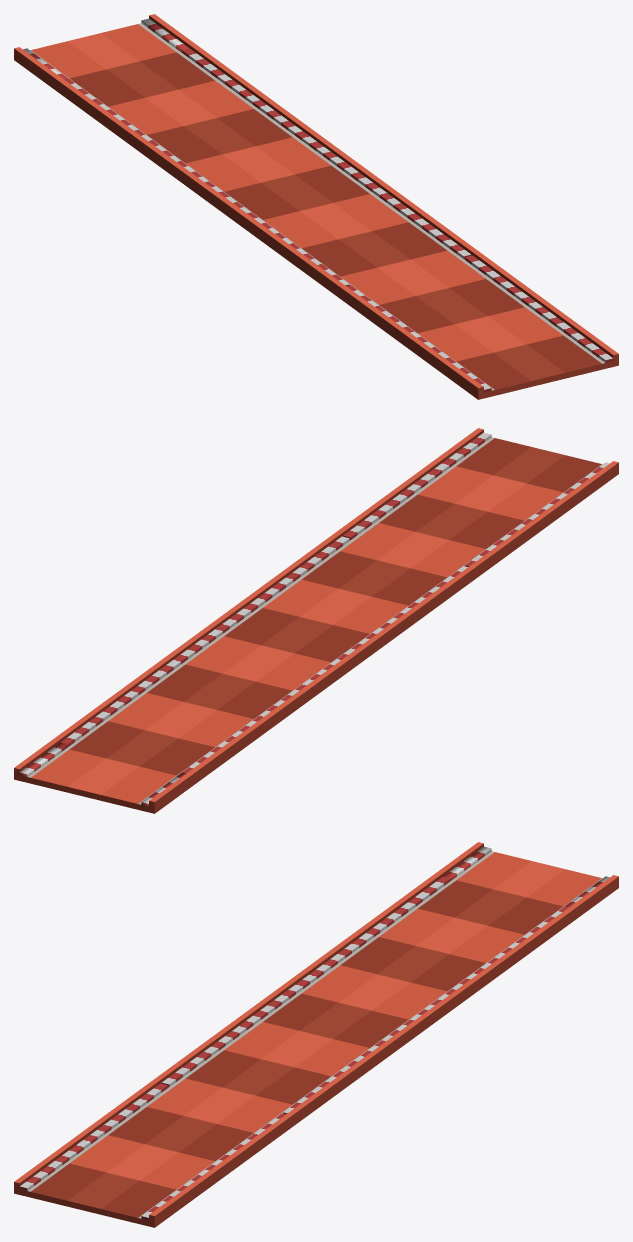
Rendered from Yellow-3Race-SuperlongStraight.FBX.
3 renders of one model, top to bottom at view 1: azimuth 30°, elevation 25°; view 2: azimuth 150°, elevation 25°; view 3: azimuth 330°, elevation 25°, orthographic.
Visible parts, largest first — view 1: Yellow-3Race-SuperlongStraight; view 2: Yellow-3Race-SuperlongStraight; view 3: Yellow-3Race-SuperlongStraight.
Boxes of the visible parts, left/top/right/bottom form: Yellow-3Race-SuperlongStraight: left=14, top=14, right=618, bottom=399; Yellow-3Race-SuperlongStraight: left=14, top=428, right=618, bottom=813; Yellow-3Race-SuperlongStraight: left=14, top=842, right=618, bottom=1227.
Size of the model in its own units: 1260 by 100 by 7200.
